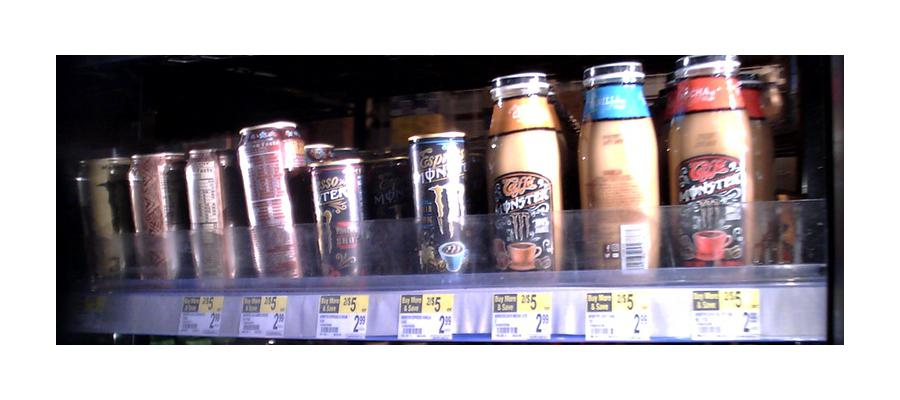bottle: (665, 53, 760, 274), (576, 60, 662, 275), (487, 70, 571, 284), (233, 121, 304, 276), (405, 131, 474, 278), (307, 147, 370, 281), (181, 142, 234, 288), (124, 151, 183, 282), (78, 159, 127, 280)
